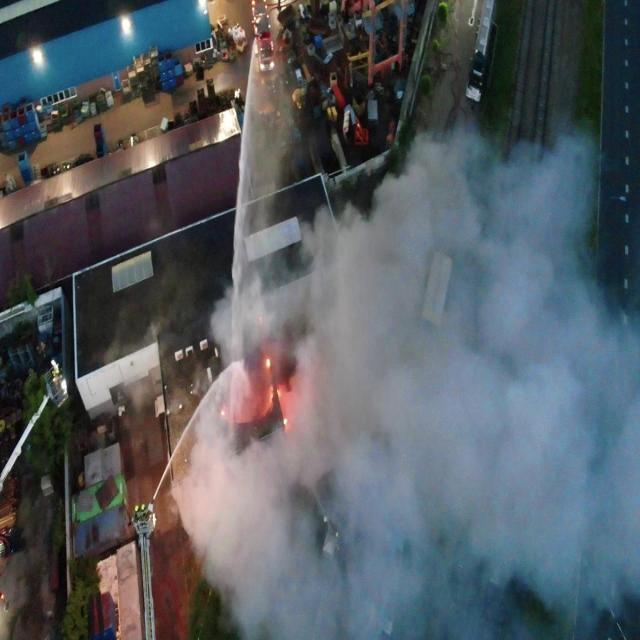Fire: (270, 386, 282, 404), (266, 358, 270, 368), (283, 417, 288, 425)
Smoke: (168, 111, 640, 638)
